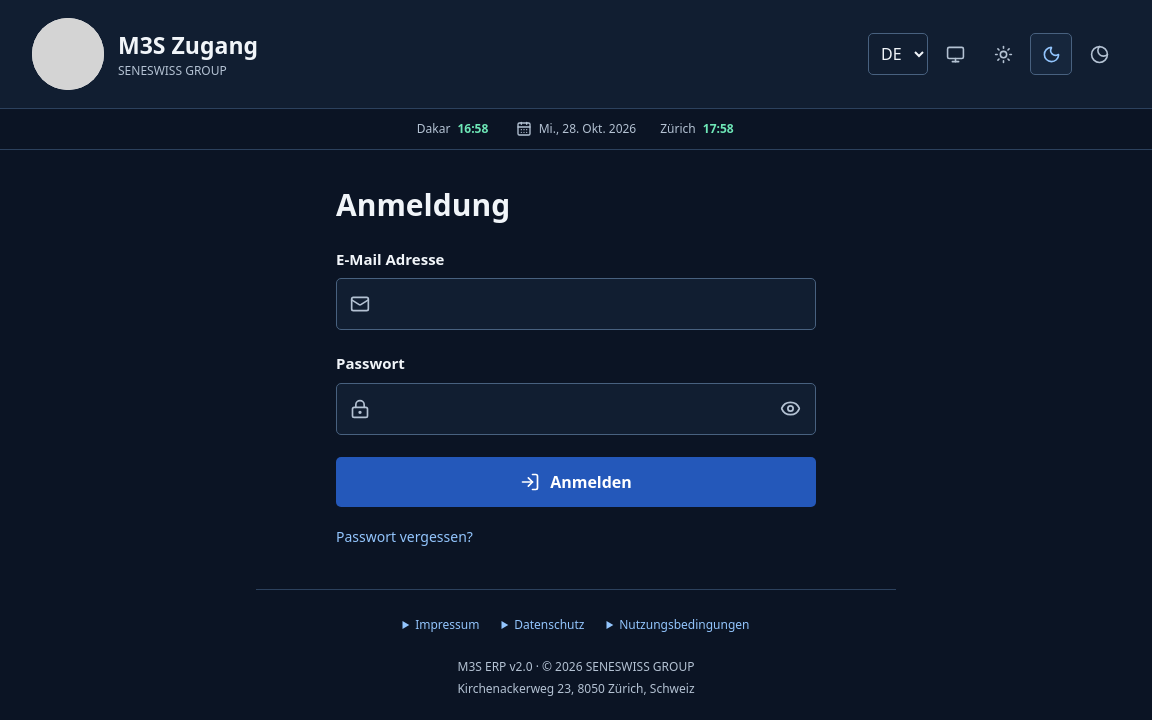
Test: validates email locally in DE without a browser-language bubble
Type "invalid-address" into the field labelled "E-Mail Adresse" at [576, 304], box x1=336 y1=278 x2=816 y2=330
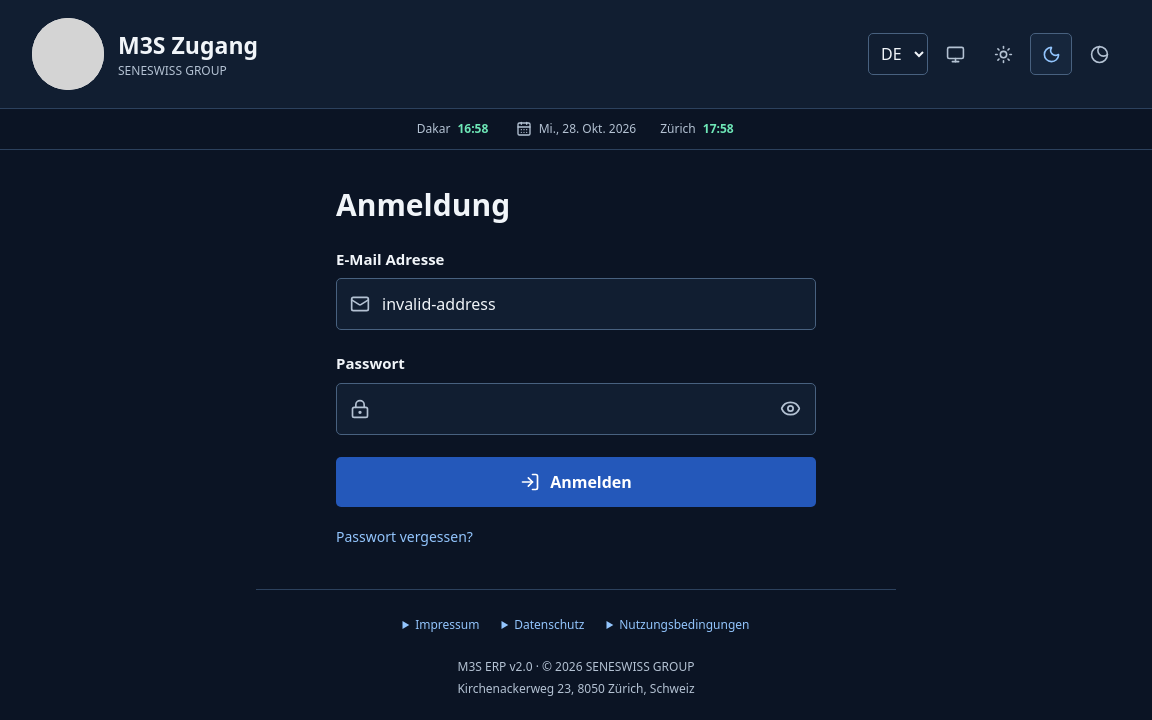
Click the button "Anmelden" at [576, 482], box x1=336 y1=456 x2=816 y2=506
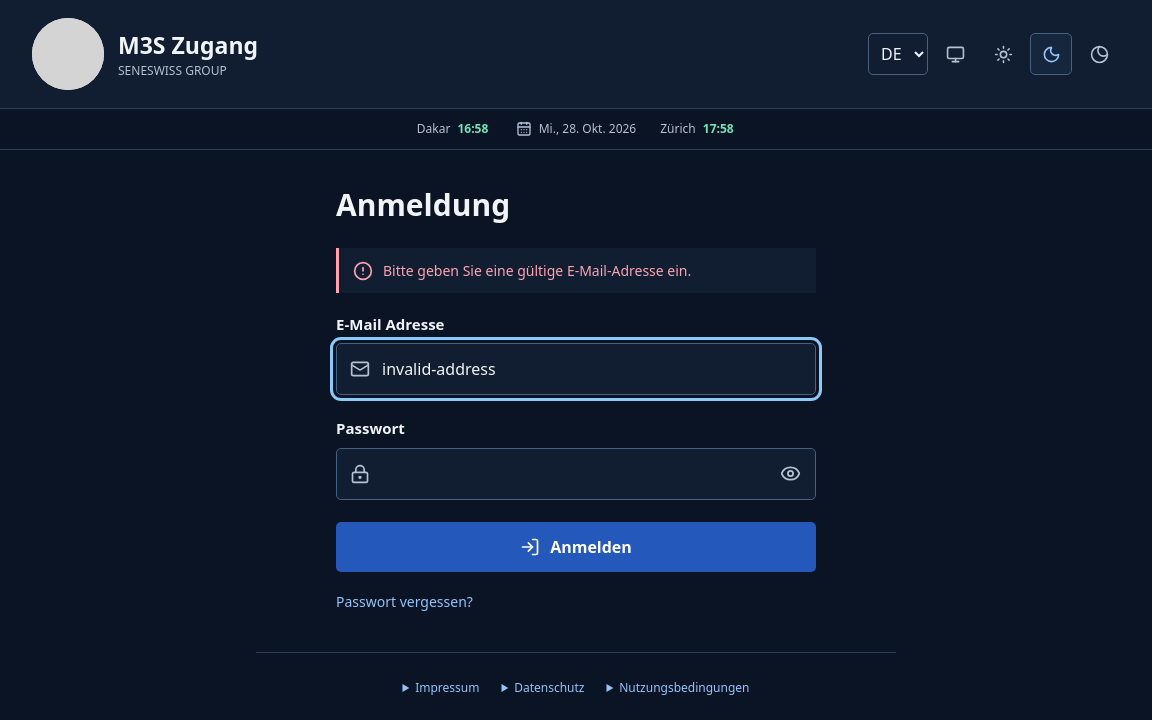
expect the message reads "Bitte geben Sie eine gültige E-Mail-Adresse ein.": met, box x1=383 y1=260 x2=691 y2=280
